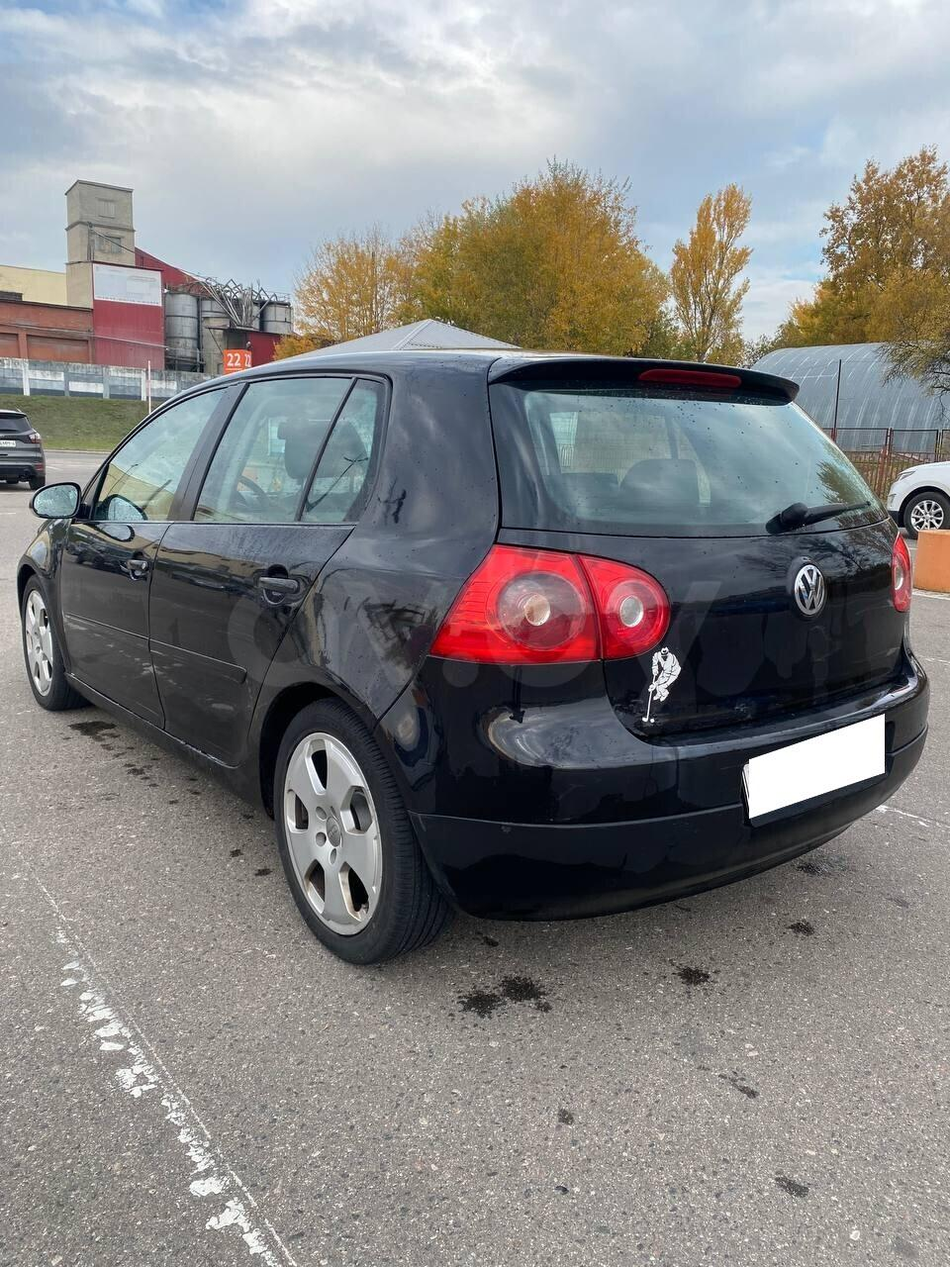Golf_2003-2009: (7, 342, 928, 960)
